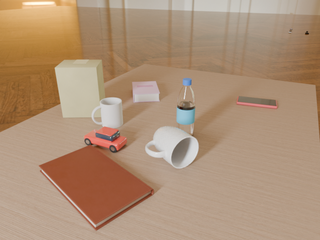book: (39, 145, 154, 231), (132, 81, 159, 102)
bottle: (176, 78, 195, 136)
box: (55, 60, 105, 117)
cup: (145, 126, 198, 168), (92, 98, 123, 128)
phone: (237, 96, 277, 108)
toy_car: (84, 126, 127, 152)
